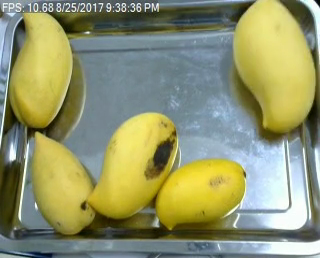Mango: (235, 0, 316, 135), (86, 111, 176, 224), (5, 4, 73, 128), (25, 130, 102, 237), (153, 154, 250, 238)
